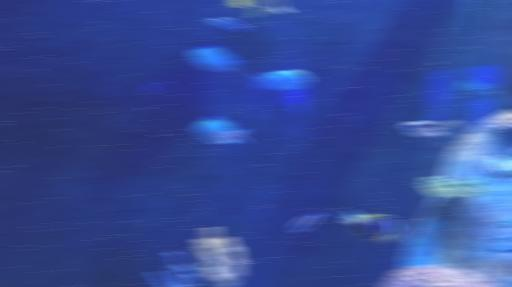Fish: (342, 210, 401, 243), (188, 46, 241, 73), (196, 116, 249, 143), (253, 70, 310, 90), (404, 120, 463, 138), (291, 208, 324, 232), (402, 120, 445, 137), (251, 0, 290, 17), (211, 17, 248, 31)
